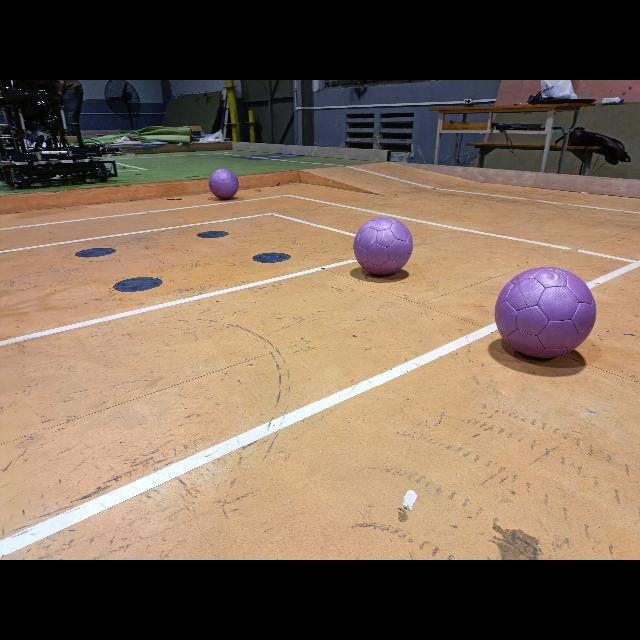P: (496, 267, 596, 357), (354, 217, 412, 276), (206, 165, 240, 199)
